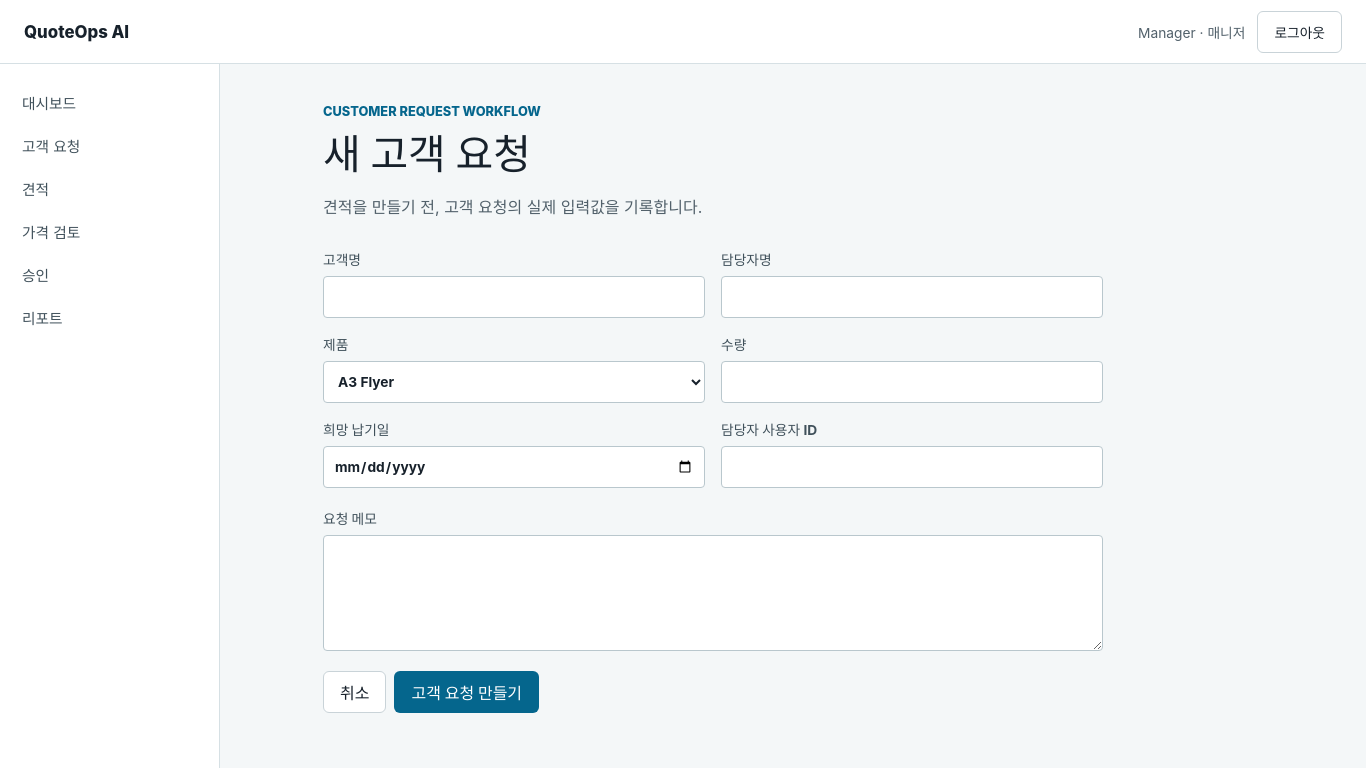
V2-03B customer-request workspace › creates a manager request through the API and opens the persisted detail route
Expected: the heading "새 고객 요청" is shown, top-left (323, 129), bottom-right (531, 179)
Type "Build Co" into the field labelled "고객명" at (514, 297), box top-left (323, 276), bottom-right (705, 318)
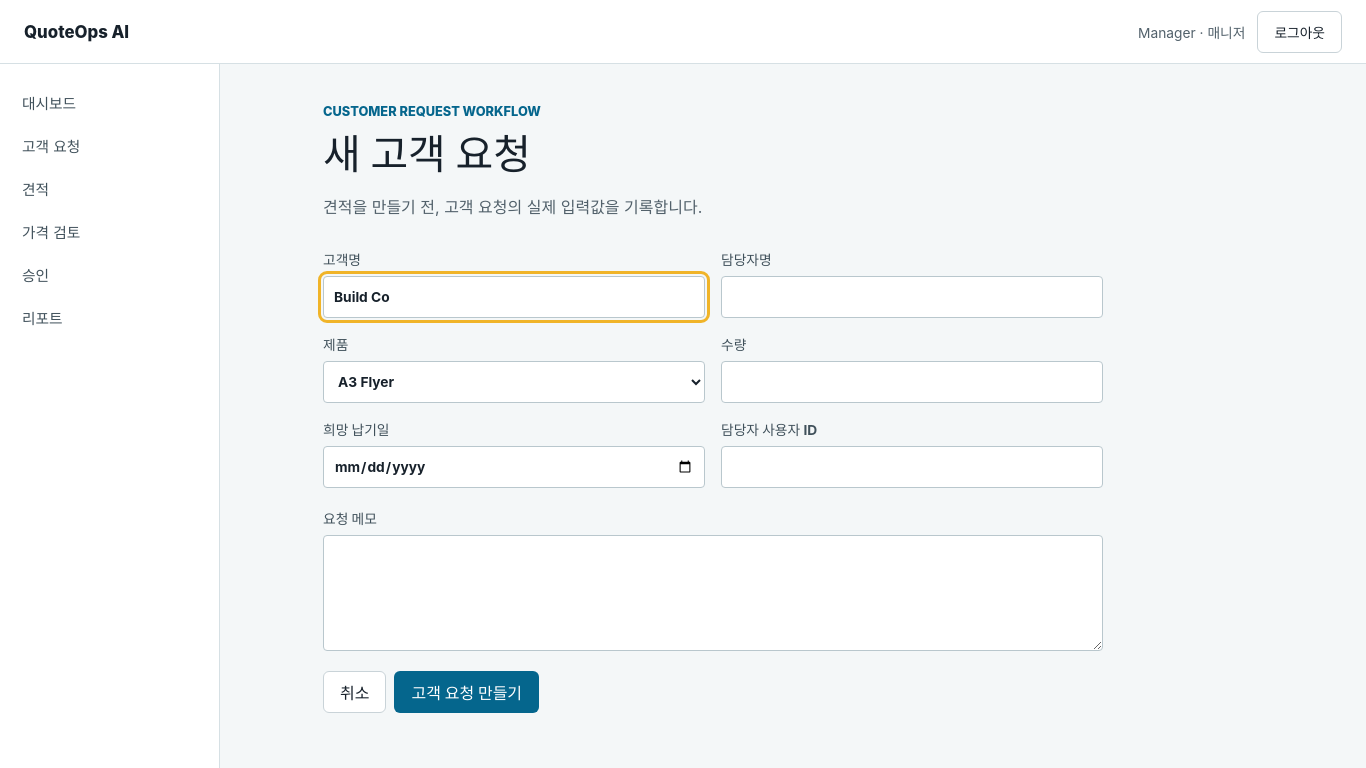
Type "50" into the number field labelled "수량" at (912, 382), box top-left (721, 361), bottom-right (1103, 403)
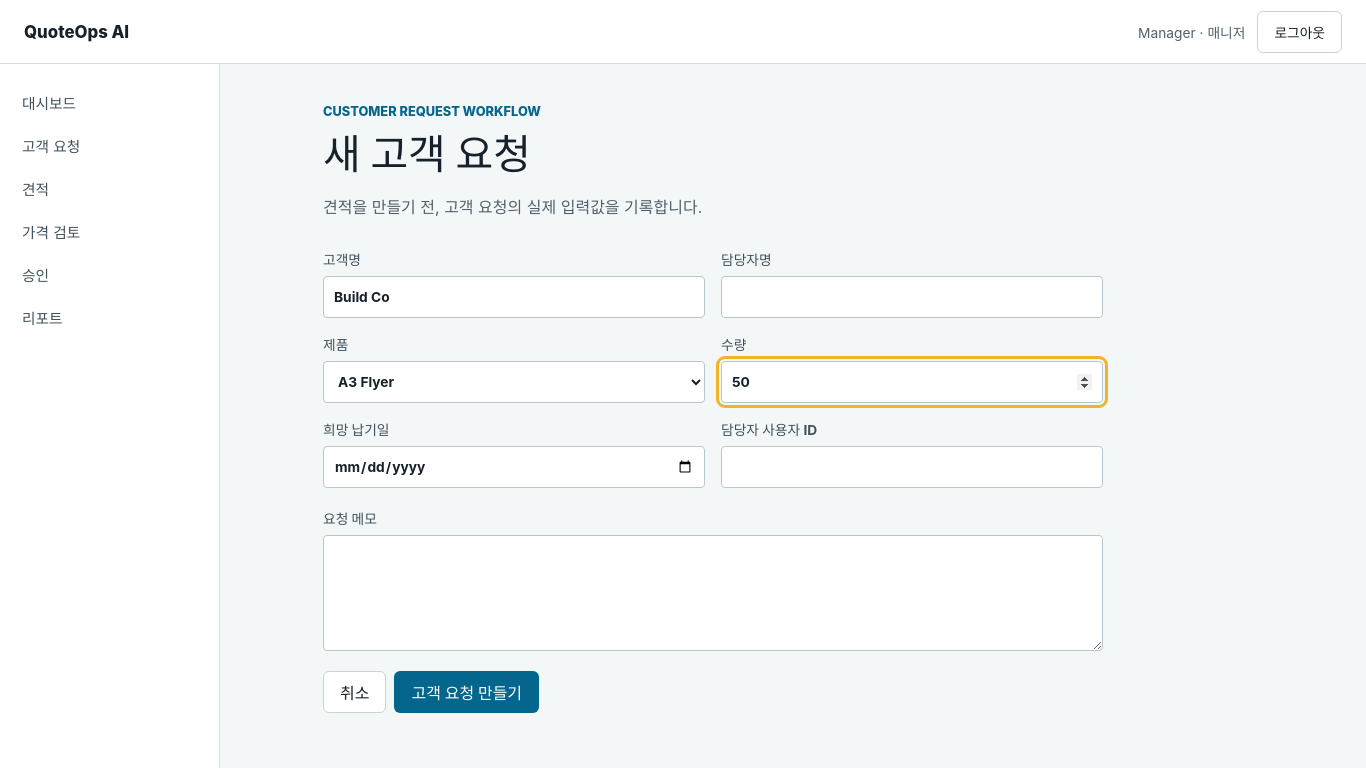
Click the button "고객 요청 만들기" at (467, 692), box top-left (394, 671), bottom-right (539, 713)
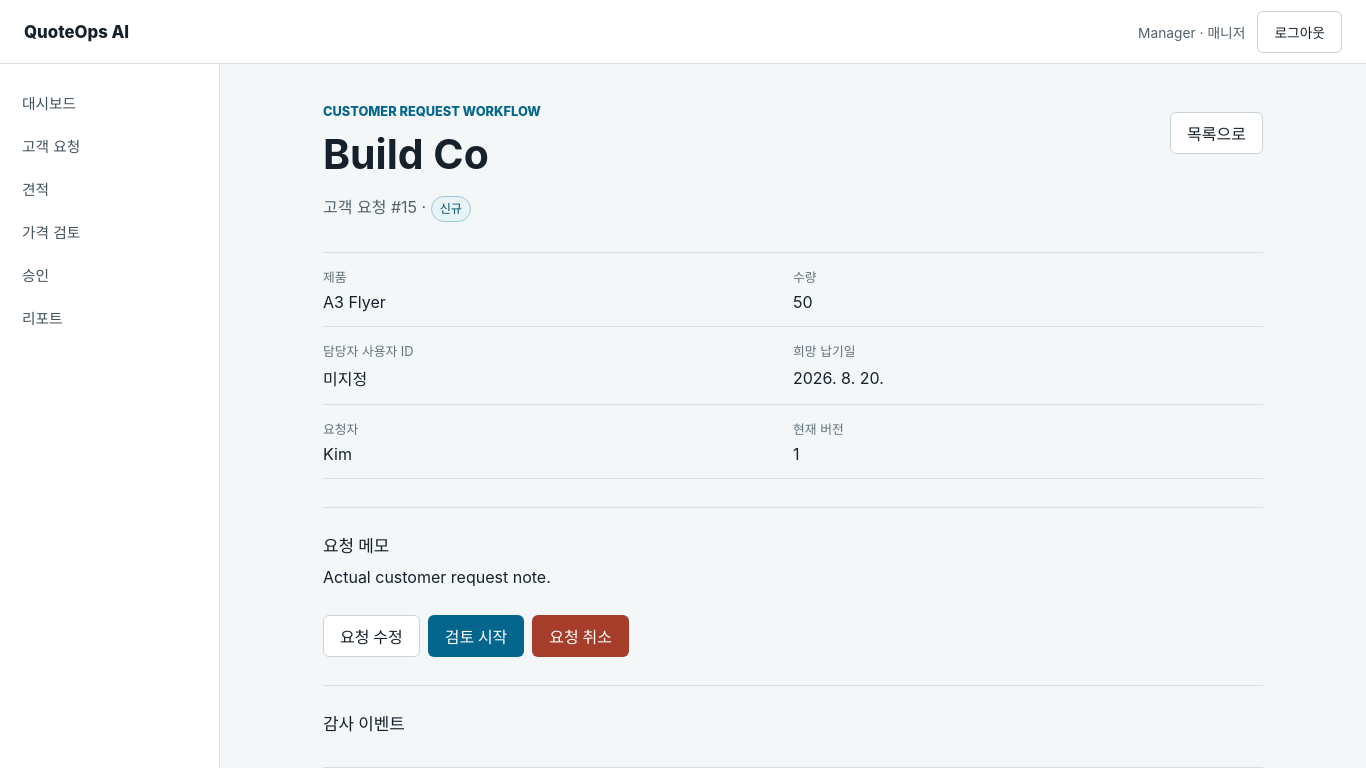
Now the heading "Build Co" is shown, box top-left (323, 129), bottom-right (489, 179)
